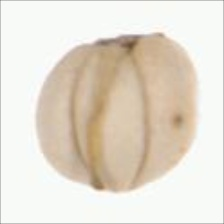L5: (69, 49, 153, 186), (81, 31, 167, 51), (85, 174, 153, 193)
L6: (31, 29, 200, 195)
